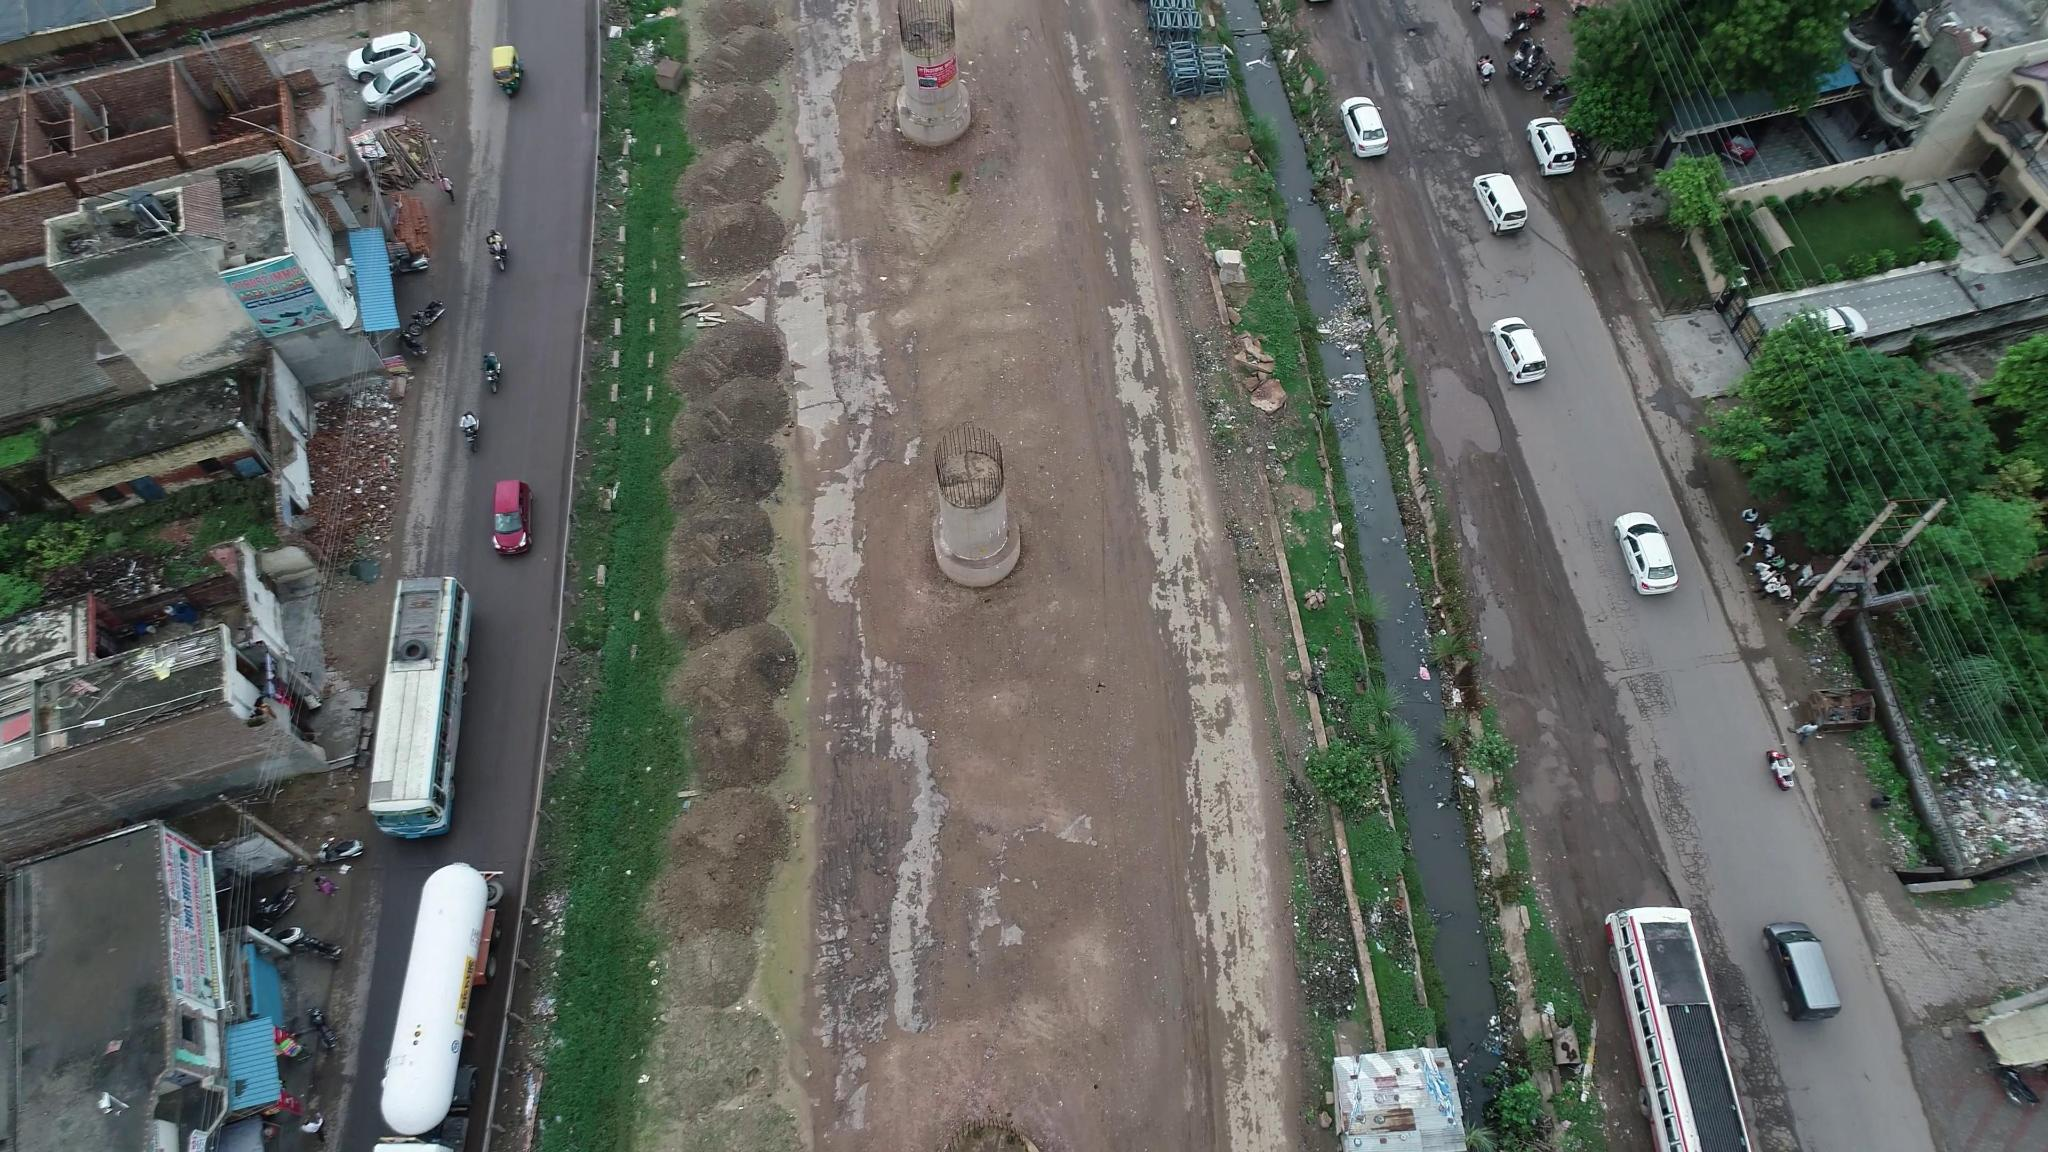Cracks: (1629, 654, 1730, 883)
Potholes: (1407, 86, 1495, 159), (1345, 20, 1447, 55)
